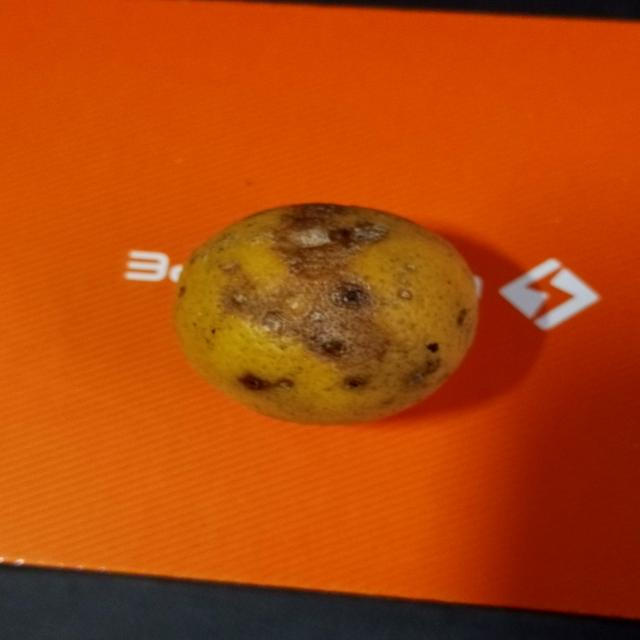black spot: (164, 203, 494, 422)
